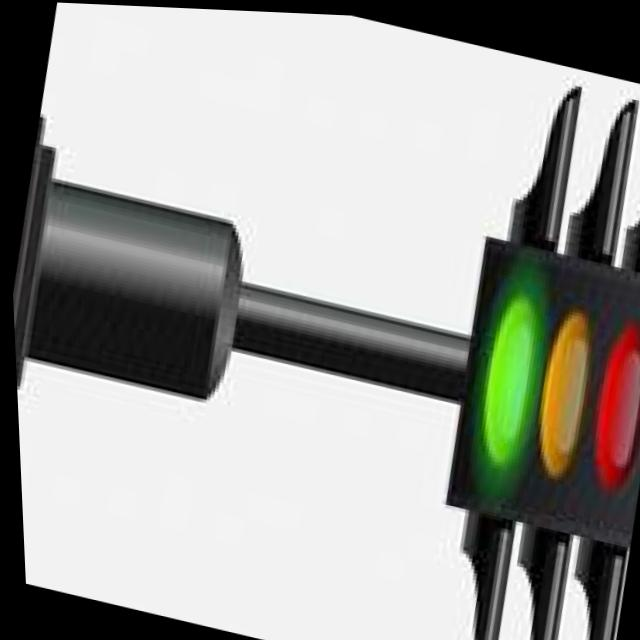green_light: (444, 239, 565, 477)
red_light: (564, 268, 640, 517)
yellow_light: (512, 275, 615, 488)
